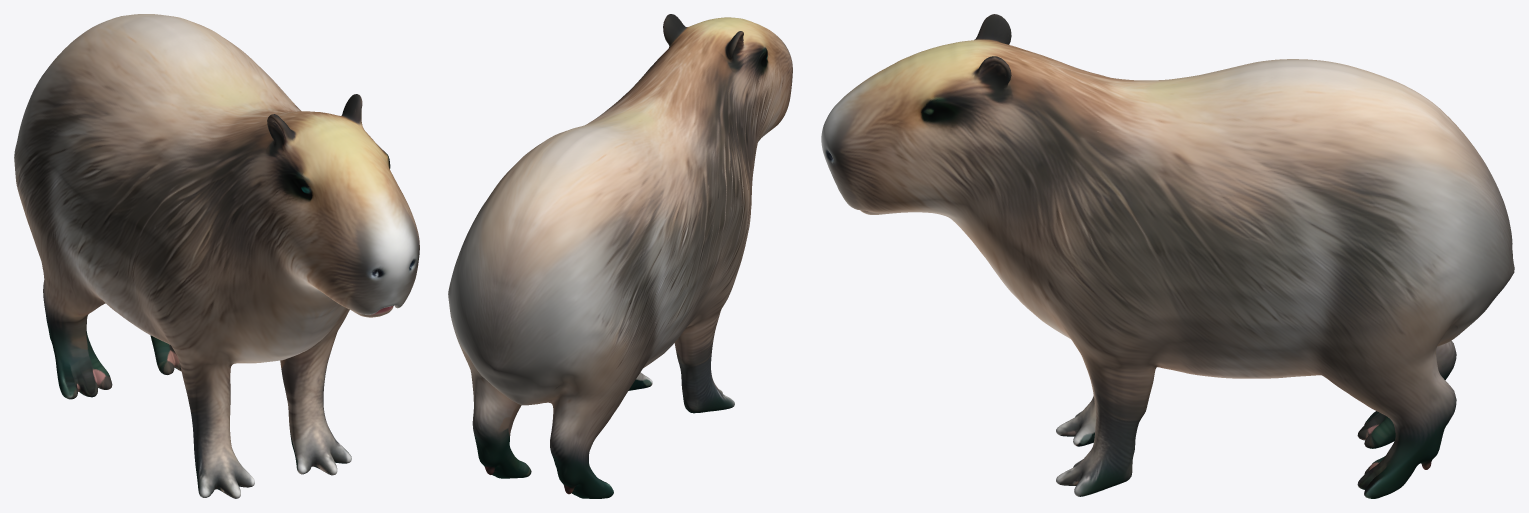
File: capybara.glb
3 renders of one model, left to right at view 1: azimuth 30°, elevation 25°; view 2: azimuth 150°, elevation 25°; view 3: azimuth 270°, elevation 25°, orthographic. The views are drawn at different scales.
Visible parts, largest first — view 1: model; view 2: model; view 3: model.
Part boxes in pixels (x1,y1,x2,y2): model: (14,14,419,498); model: (448,14,792,498); model: (821,14,1514,498).
Size of the model in its own units: 0.5924 by 1.08 by 1.58.
Materials: 1 (1 with a texture image).
